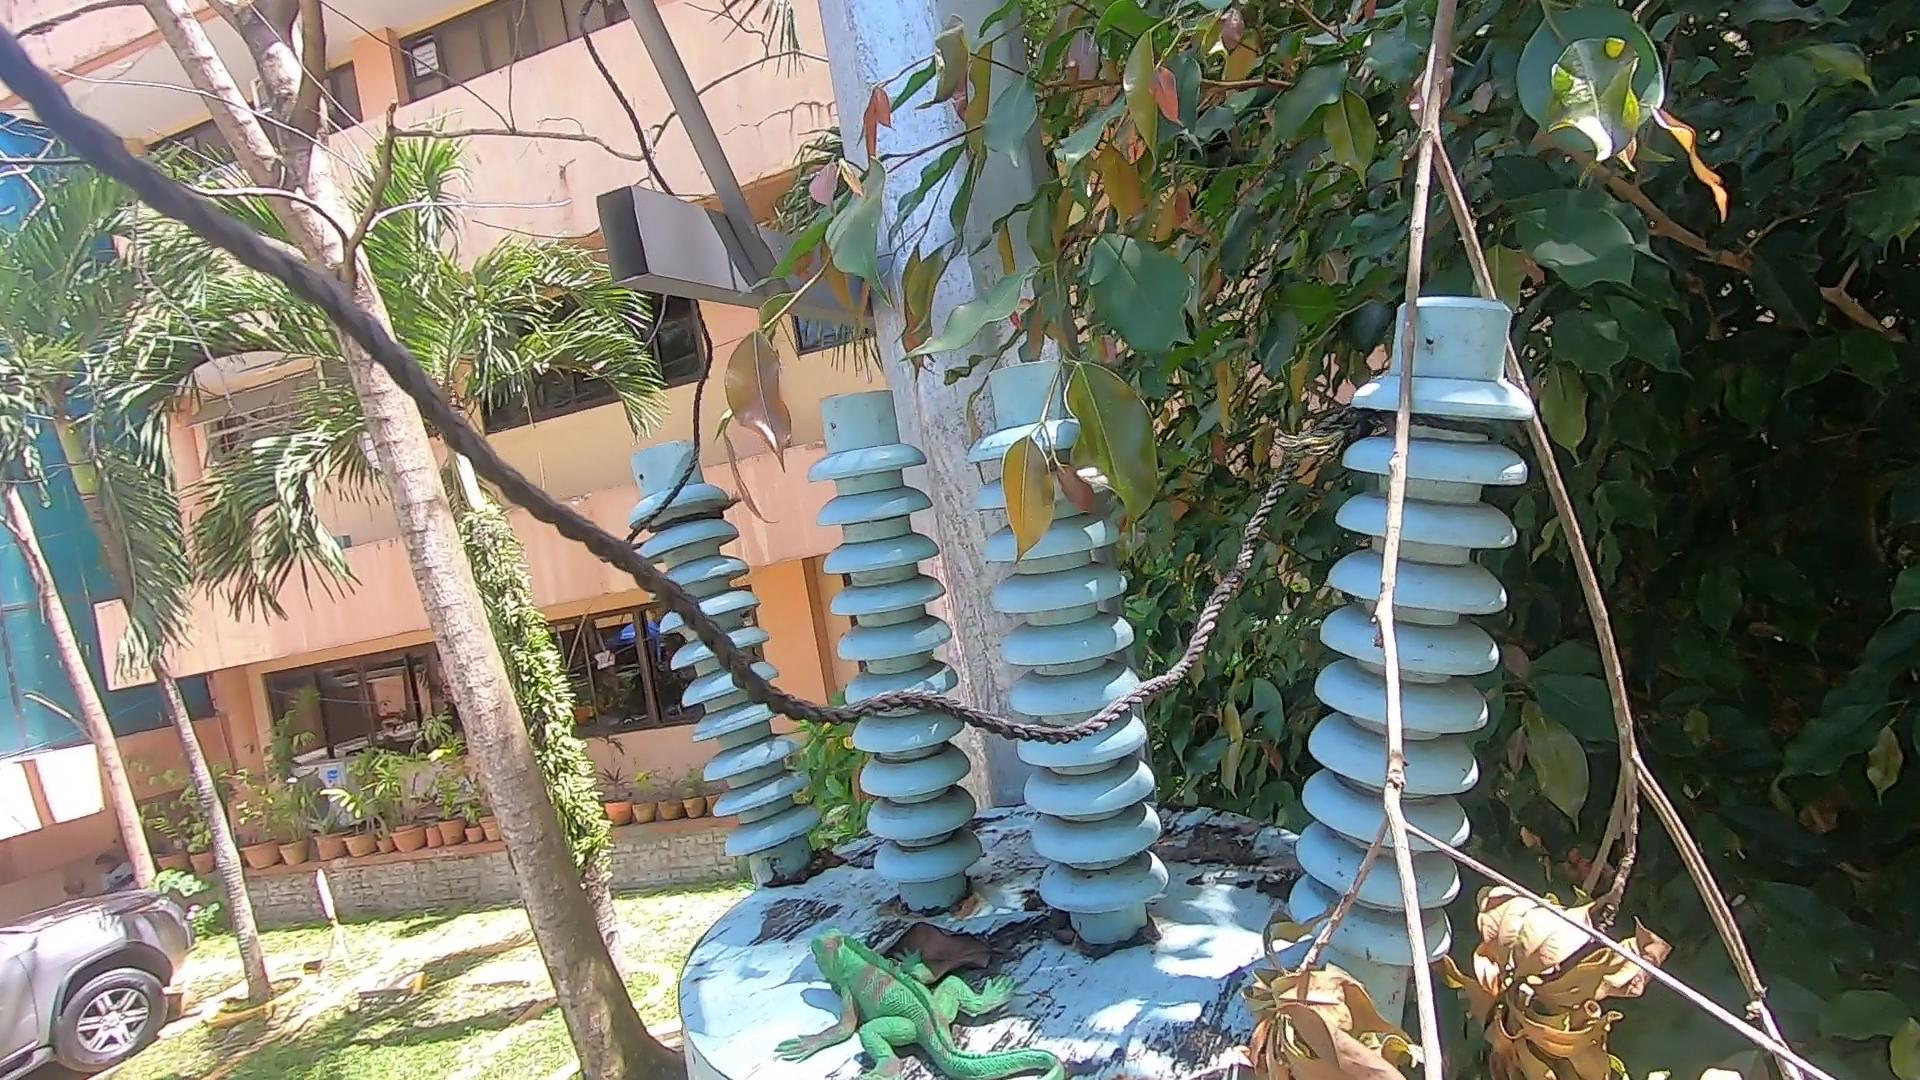branch with leaves: (1211, 1, 1851, 1077)
leaf: (858, 915, 1029, 971)
